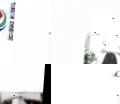ironball: (89, 13, 119, 64), (0, 90, 41, 103), (22, 89, 43, 103), (113, 64, 119, 80)
